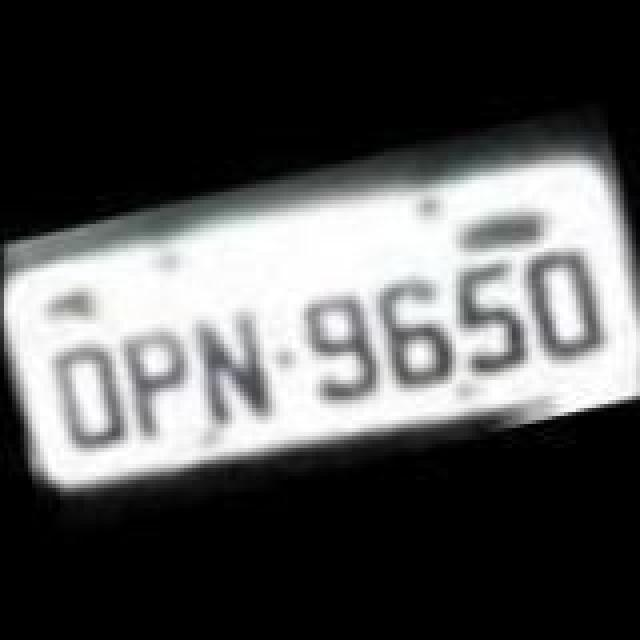5: (444, 254, 536, 378)
6: (364, 262, 464, 394)
9: (286, 280, 390, 412)
N: (180, 300, 280, 428)
O: (510, 234, 614, 366), (42, 336, 134, 456)
P: (108, 322, 204, 442)
